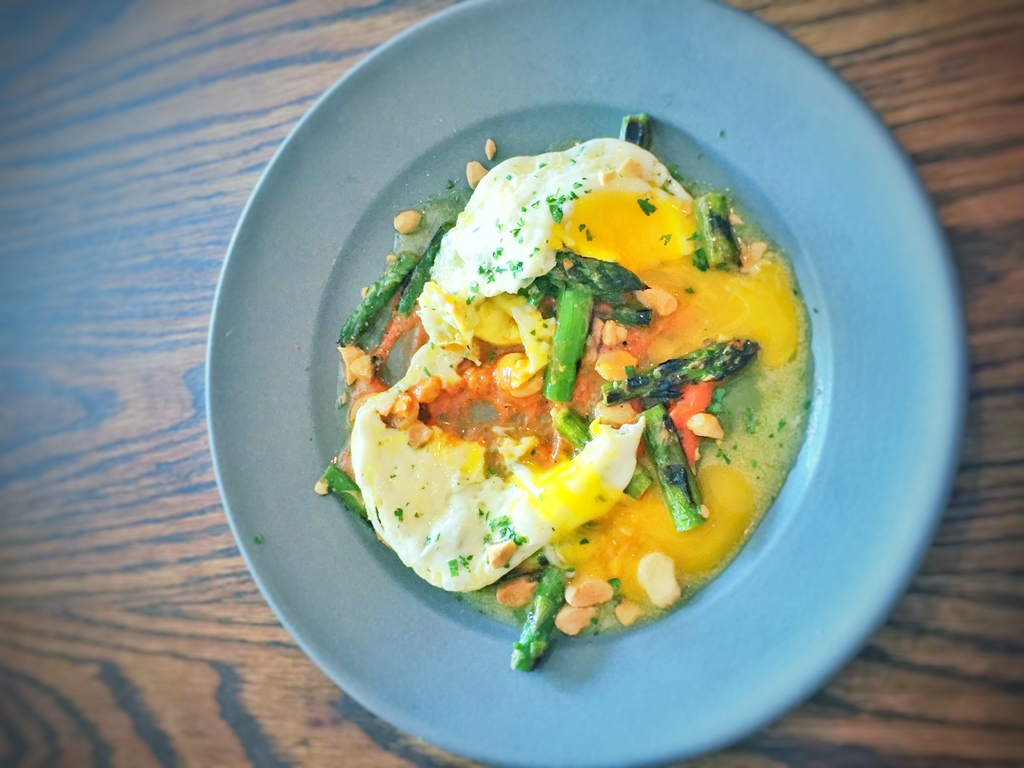plate: (204, 0, 965, 767)
